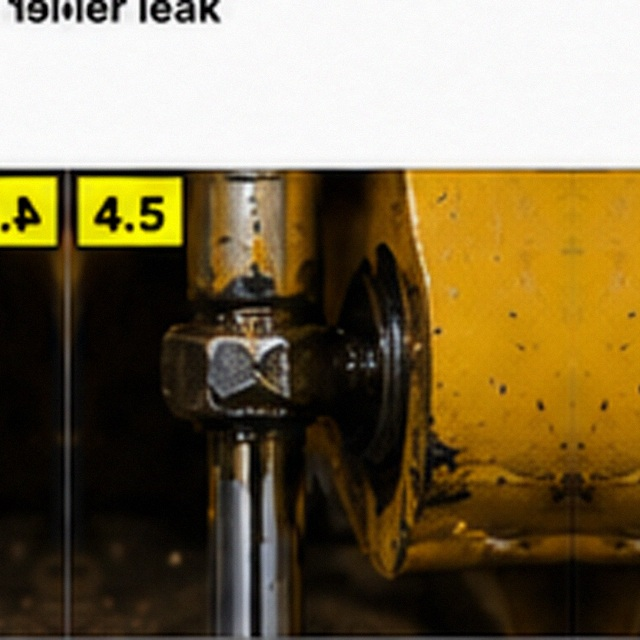hydraulic_oil_leak: (160, 192, 448, 448)
